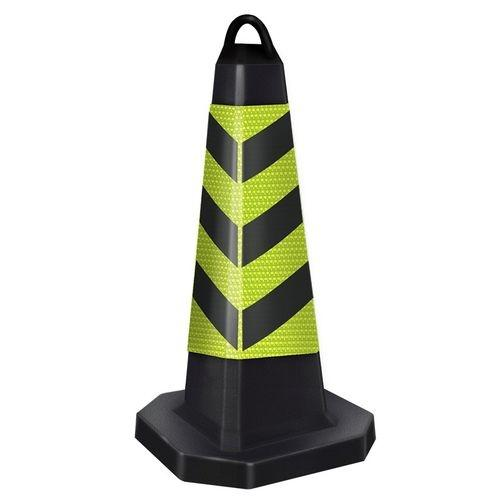cone_barrel: (149, 18, 353, 467)
